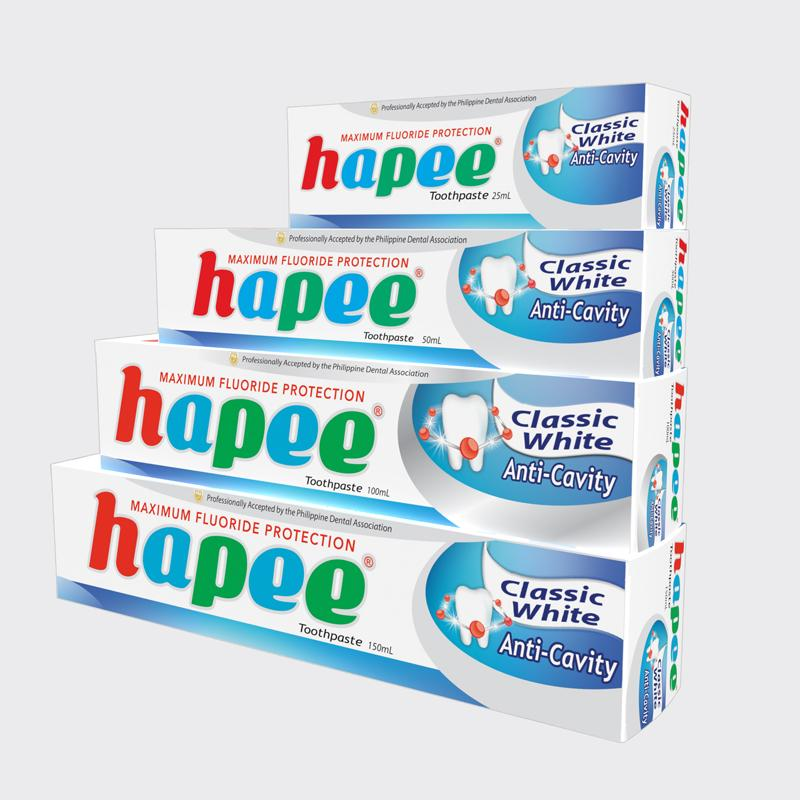toothpaste: (40, 448, 675, 744), (101, 331, 688, 562), (151, 217, 697, 389), (284, 79, 698, 223)
